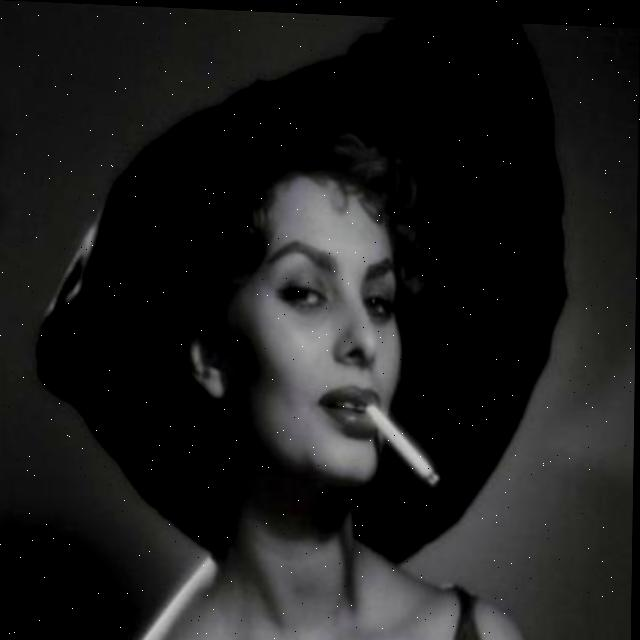cigarette: (364, 400, 446, 487)
